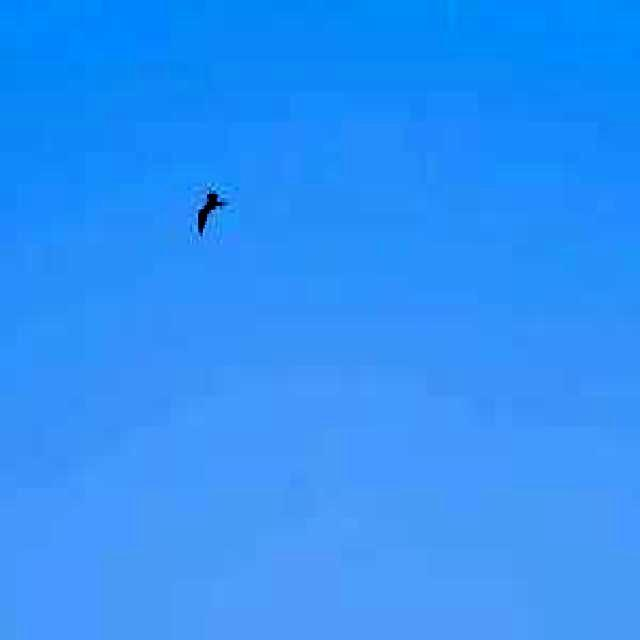bird: (194, 186, 232, 237)
